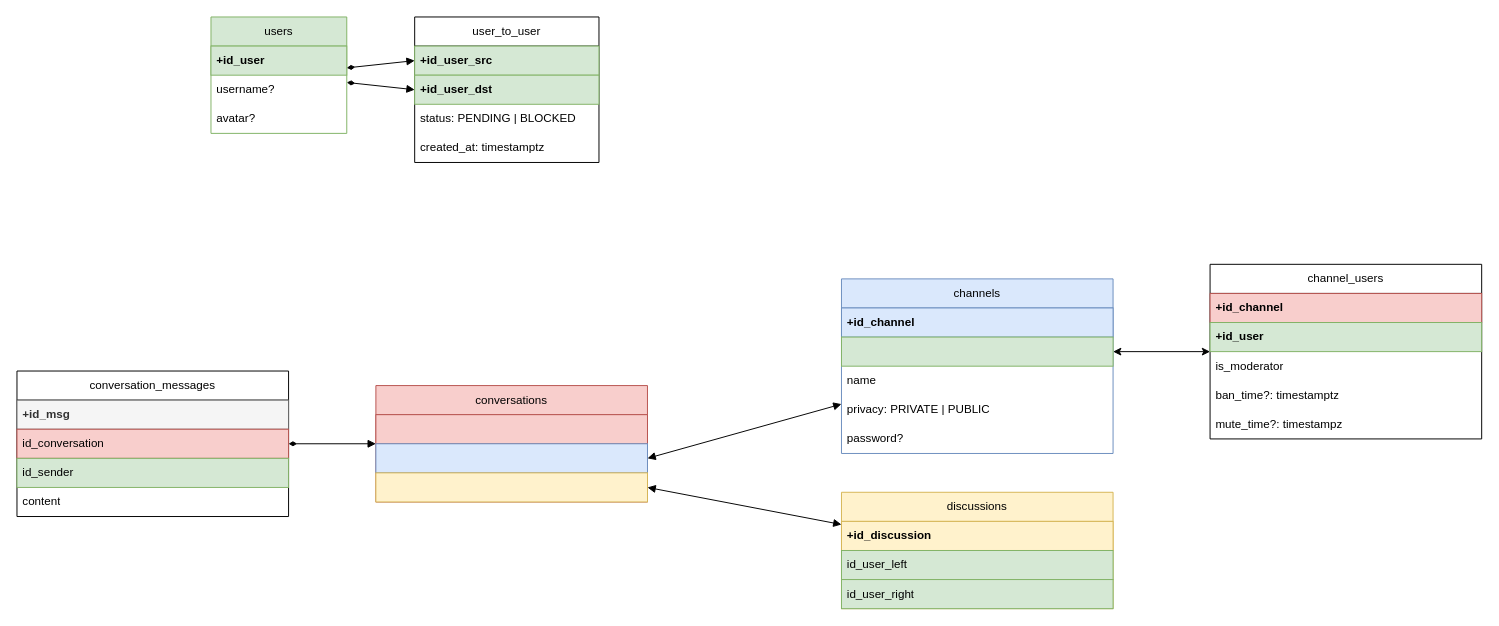
Image size: 1499x626. Some labels were removed from this diagram. Here are the shapes that lost their labels. From the top down, the centre of each, then its label:
At (x=977, y=351): "id_owner".
At (x=511, y=429): "+id_conversation".
At (x=511, y=458): "is_channel?".
At (x=511, y=487): "is_discussion?".
